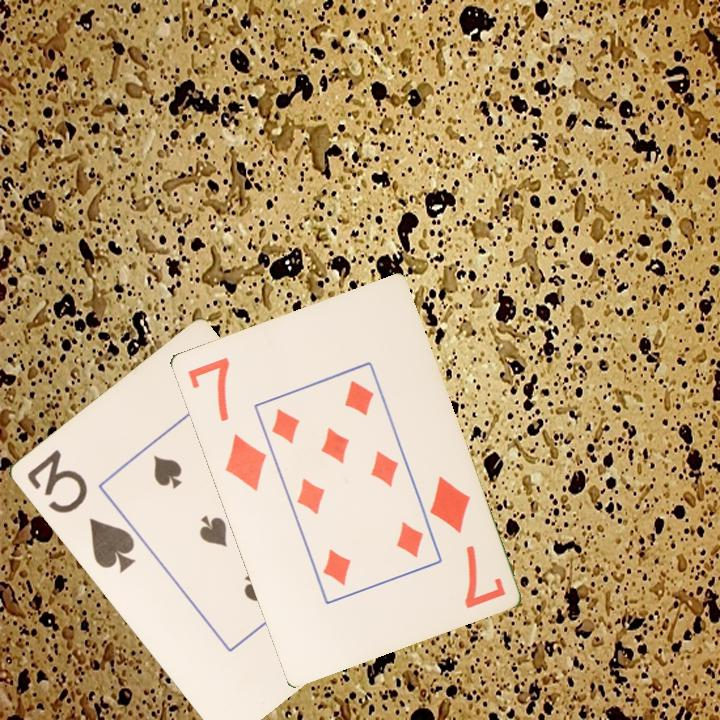3s: (22, 446, 139, 576)
7d: (183, 353, 269, 494), (425, 472, 508, 612)
